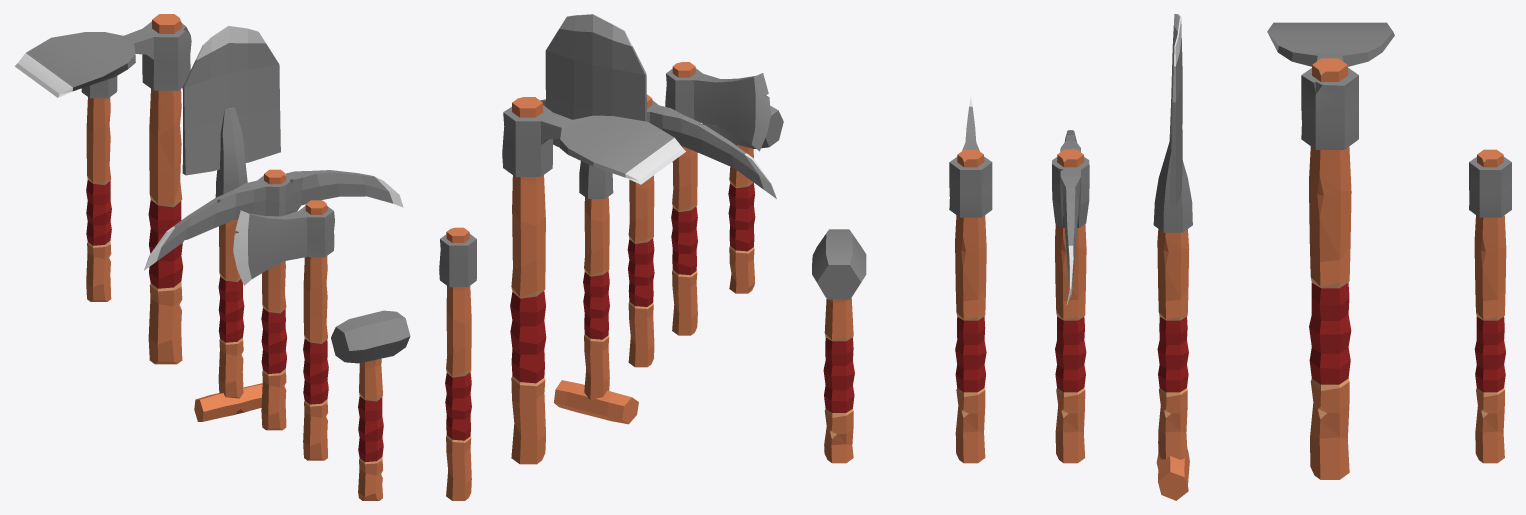
File: Tools.fbx
The picture shows the model from 3 angles, left to right: view 1: azimuth 30°, elevation 25°; view 2: azimuth 150°, elevation 25°; view 3: azimuth 270°, elevation 25°; orthographic projection. The views are drawn at different scales.
Visible parts, largest first — view 1: DirtMover_Shovel, Foodmaker_Hoe, Stonebreaker_Pickaxe, Woodcutter_Axe, WoodWork_Hammer, TEMPLATE_TOOL; view 2: Foodmaker_Hoe, DirtMover_Shovel, Woodcutter_Axe, Stonebreaker_Pickaxe, TEMPLATE_TOOL, WoodWork_Hammer; view 3: Foodmaker_Hoe, DirtMover_Shovel, Woodcutter_Axe, TEMPLATE_TOOL, Stonebreaker_Pickaxe, WoodWork_Hammer.
Part boxes in pixels (x1,y1,x2,y2): DirtMover_Shovel: (182, 25, 280, 421); Foodmaker_Hoe: (14, 14, 191, 364); Stonebreaker_Pickaxe: (144, 169, 403, 430); Woodcutter_Axe: (233, 200, 334, 460); WoodWork_Hammer: (331, 310, 410, 500); TEMPLATE_TOOL: (81, 76, 117, 301); Foodmaker_Hoe: (502, 97, 685, 464); DirtMover_Shovel: (545, 14, 647, 424); Woodcutter_Axe: (665, 62, 770, 335); Stonebreaker_Pickaxe: (540, 94, 776, 367); TEMPLATE_TOOL: (439, 227, 476, 500); WoodWork_Hammer: (702, 106, 783, 293); Foodmaker_Hoe: (1267, 22, 1394, 479); DirtMover_Shovel: (1153, 14, 1192, 500); Woodcutter_Axe: (949, 96, 992, 463); TEMPLATE_TOOL: (1469, 149, 1511, 463); Stonebreaker_Pickaxe: (1052, 130, 1089, 463); WoodWork_Hammer: (812, 229, 866, 463).
Size of the model in its own units: 1732 by 2489 by 3398.
Materials: 1 (1 with a texture image).
